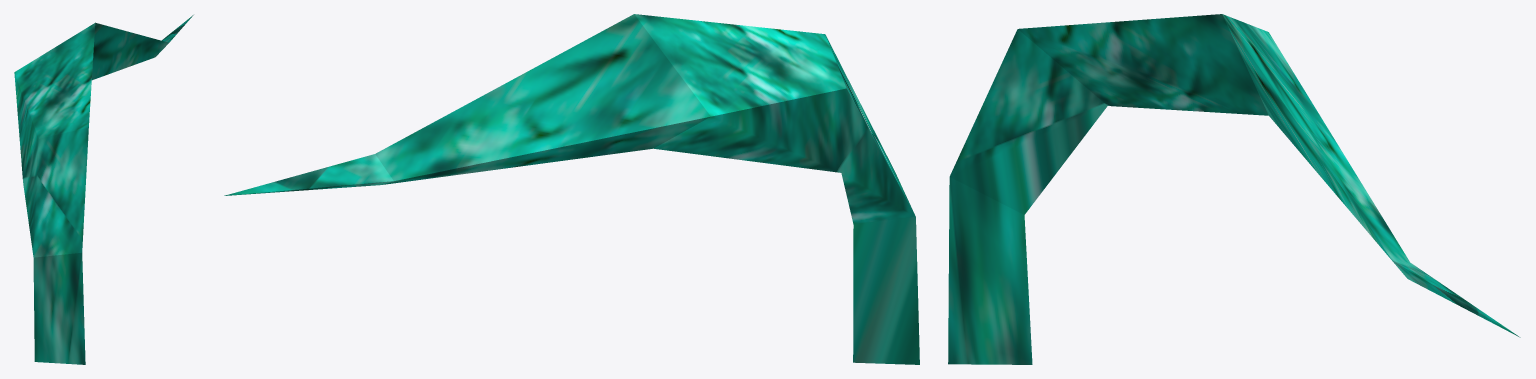
Rendered from H1_BluePlant_Branch_3.gltf.
3 views of the same model, side by side, from view 1: azimuth 30°, elevation 25°; view 2: azimuth 150°, elevation 25°; view 3: azimuth 270°, elevation 25° (orthographic). The views are drawn at different scales.
Visible parts, largest first — view 1: H1_BluePlant_Branch_3; view 2: H1_BluePlant_Branch_3; view 3: H1_BluePlant_Branch_3.
Part boxes in pixels (x1,y1,x2,y2): H1_BluePlant_Branch_3: [14, 15, 193, 364]; H1_BluePlant_Branch_3: [224, 14, 919, 364]; H1_BluePlant_Branch_3: [948, 14, 1520, 364].
Size of the model in its own units: 4.41 by 3.42 by 4.18.
1 material, 1 textured.
